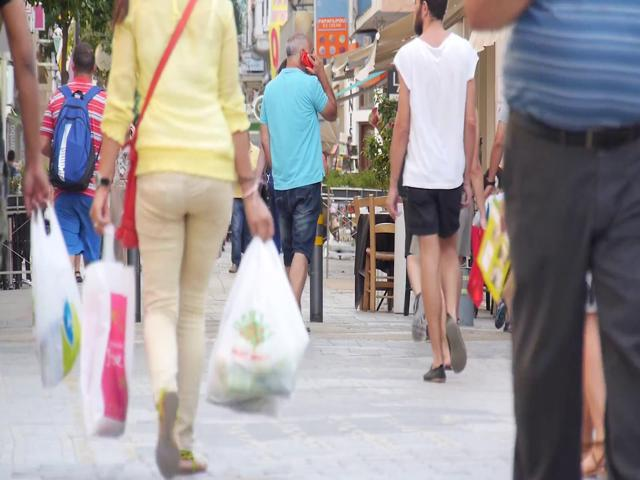shoe: (156, 391, 180, 479), (445, 321, 467, 372), (179, 452, 207, 474), (424, 365, 446, 383)
